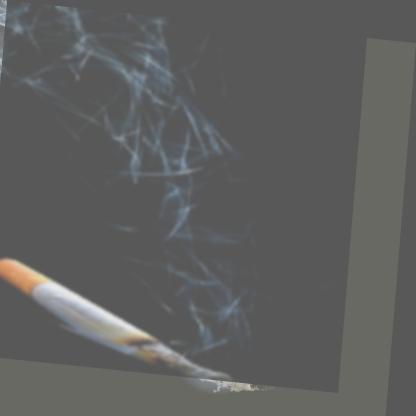smoke: (1, 3, 351, 378)
